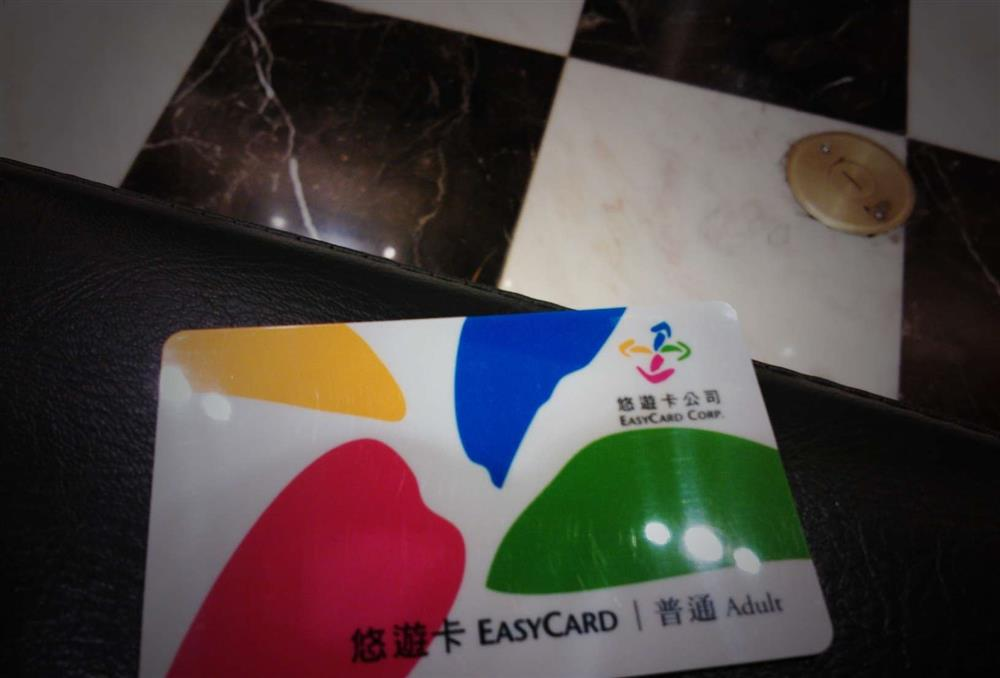Taiwan_EasyCard: (131, 299, 835, 670)
